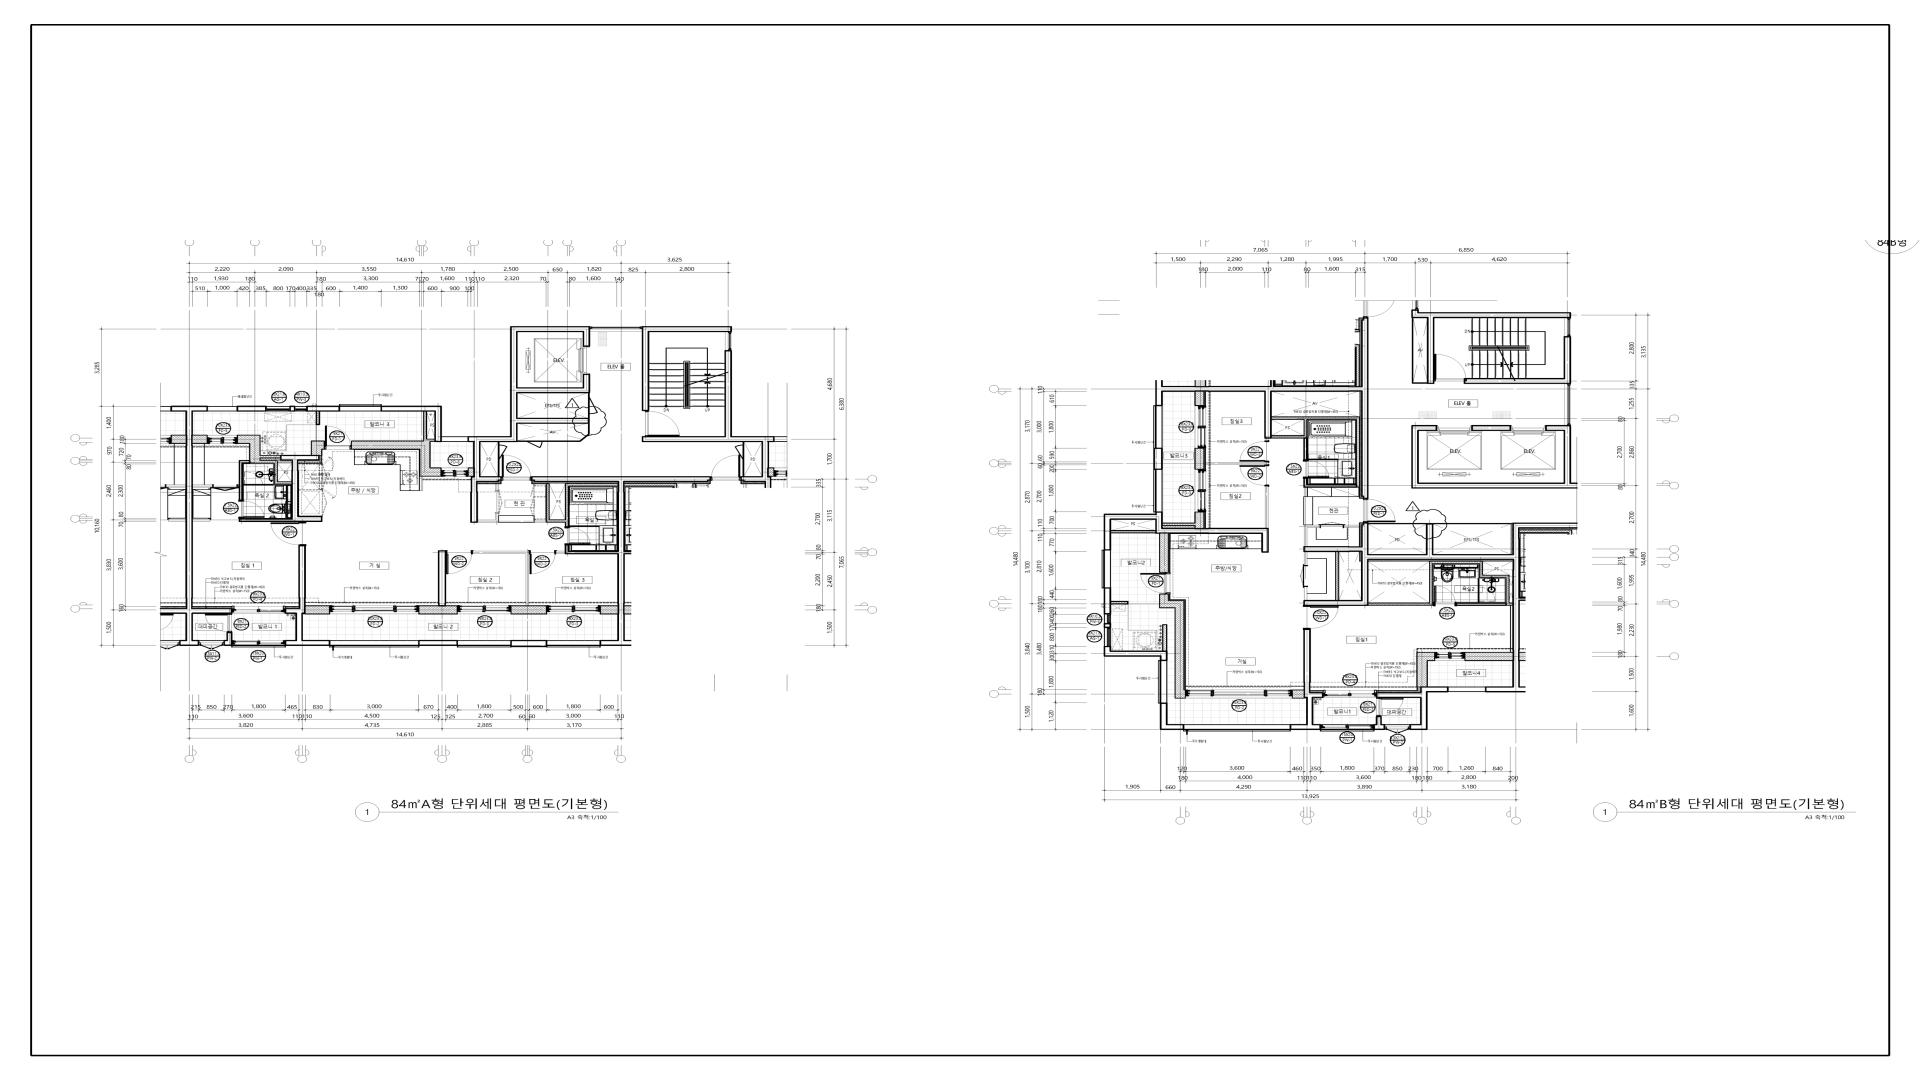door: (270, 522, 307, 546), (645, 411, 680, 436), (1434, 354, 1466, 381), (1363, 499, 1396, 523), (501, 455, 531, 481), (1307, 606, 1339, 629), (1239, 465, 1269, 487), (1239, 440, 1269, 462), (1140, 573, 1171, 594), (325, 425, 351, 450), (446, 550, 473, 574), (529, 550, 556, 574), (1376, 698, 1404, 716), (1303, 460, 1329, 479), (238, 500, 265, 518), (205, 614, 232, 632), (1434, 586, 1457, 606), (564, 528, 591, 544), (1478, 587, 1495, 602), (245, 472, 263, 486), (212, 484, 238, 491), (1300, 565, 1308, 587), (1320, 522, 1344, 528), (590, 397, 598, 414), (497, 491, 502, 513), (527, 442, 542, 448), (500, 445, 508, 455), (735, 445, 743, 455)
wall: (1155, 317, 1369, 499), (1303, 523, 1520, 693), (468, 326, 590, 523), (531, 476, 626, 646), (642, 350, 769, 476), (1411, 310, 1571, 384), (185, 406, 232, 646), (1411, 425, 1578, 489), (642, 326, 732, 411), (1272, 416, 1360, 496), (1104, 513, 1269, 553), (1368, 561, 1513, 606), (351, 412, 442, 477), (239, 455, 323, 522), (1466, 336, 1571, 384), (473, 551, 547, 615), (285, 546, 329, 646), (535, 483, 618, 528), (237, 435, 292, 500), (518, 393, 590, 442), (1291, 629, 1324, 730), (1376, 687, 1449, 730), (1159, 594, 1186, 699), (418, 550, 458, 615), (382, 406, 442, 442), (1194, 448, 1268, 470), (1412, 318, 1427, 384), (1104, 646, 1167, 660), (1416, 652, 1435, 691), (1163, 512, 1206, 528), (1160, 704, 1183, 730), (1159, 534, 1171, 573), (1464, 652, 1513, 661), (1304, 525, 1320, 547), (1471, 425, 1511, 431), (306, 605, 330, 615), (512, 640, 546, 647), (419, 640, 457, 646), (478, 513, 499, 523), (306, 406, 339, 412), (311, 441, 325, 455), (1335, 552, 1339, 600), (1104, 588, 1111, 614), (1154, 449, 1163, 469), (600, 605, 618, 615), (237, 406, 267, 412), (1194, 392, 1206, 406), (1375, 716, 1385, 730), (1162, 624, 1167, 651), (193, 435, 208, 444), (1111, 530, 1155, 533), (224, 632, 233, 646), (1265, 487, 1268, 528), (1292, 690, 1304, 699), (1433, 523, 1513, 524), (1111, 601, 1128, 605), (315, 412, 320, 425), (1369, 523, 1426, 524), (193, 519, 210, 522), (1344, 525, 1359, 528), (468, 468, 473, 476), (1304, 552, 1307, 565), (1304, 587, 1307, 600), (193, 485, 212, 487), (289, 406, 295, 412), (1104, 623, 1111, 628), (495, 484, 499, 491), (556, 551, 565, 554), (263, 484, 274, 486), (1478, 578, 1480, 587)
window: (1183, 724, 1291, 732), (1186, 690, 1292, 698), (330, 605, 419, 614), (329, 640, 420, 648), (547, 605, 600, 614), (458, 605, 511, 614), (339, 404, 382, 415), (1195, 405, 1206, 448), (1195, 469, 1206, 512), (231, 640, 286, 648), (1158, 660, 1168, 704), (1153, 469, 1163, 513), (1153, 405, 1163, 449), (546, 640, 601, 648), (457, 640, 512, 648), (1324, 690, 1376, 698), (1320, 725, 1375, 732), (232, 606, 286, 613), (1102, 550, 1111, 589), (590, 326, 642, 332), (1564, 384, 1571, 425), (1435, 652, 1465, 661), (208, 435, 237, 444), (199, 640, 224, 650), (1385, 724, 1410, 734), (441, 436, 468, 445), (441, 468, 468, 477), (1449, 687, 1485, 692), (208, 406, 237, 412), (1564, 318, 1571, 336), (1104, 628, 1111, 646), (267, 406, 289, 411), (725, 332, 731, 350), (1104, 614, 1111, 623), (295, 406, 306, 411)
